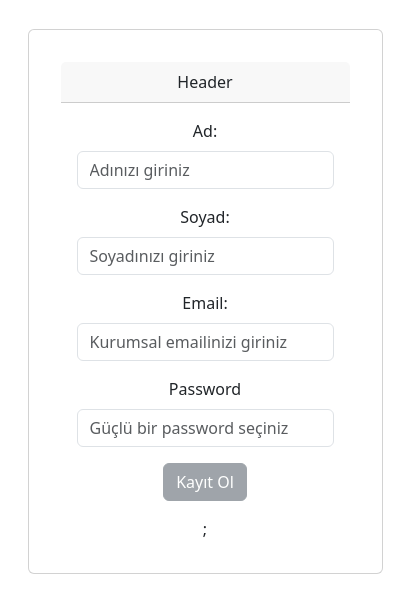
Register Page › Error Messages › Email input throws error for serife@wit.
Type "serife@wit." into the field with test id "email-input" at (206, 342), box [77,323,334,361]
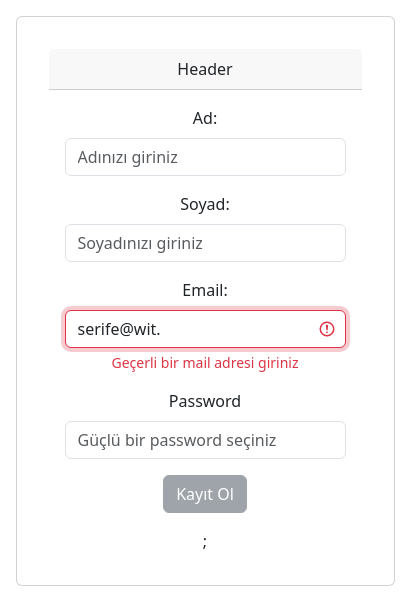
Expected: the text "Geçerli bir mail adresi giriniz" is shown, [112,353,299,372]
